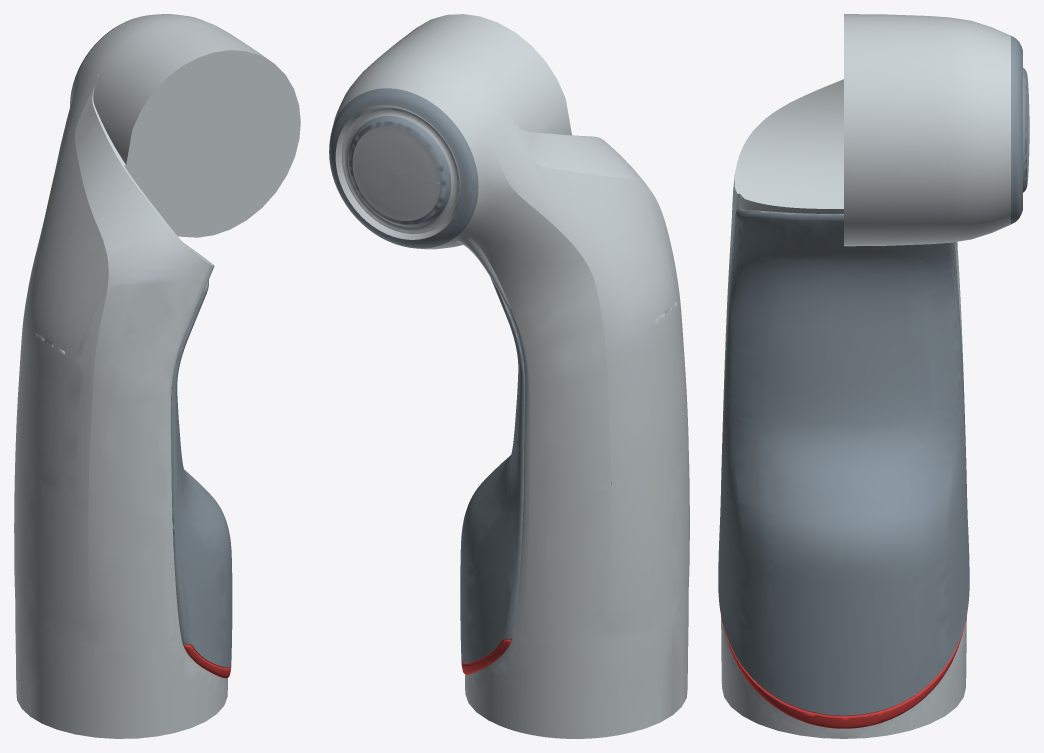
The picture shows the model from 3 angles, left to right: view 1: azimuth 30°, elevation 25°; view 2: azimuth 150°, elevation 25°; view 3: azimuth 270°, elevation 25°; orthographic projection. The views are drawn at different scales.
Visible parts, largest first — view 1: link_3.design_diana_v2.link_3; view 2: link_3.design_diana_v2.link_3; view 3: link_3.design_diana_v2.link_3.
Part boxes in pixels (x1,y1,x2,y2): link_3.design_diana_v2.link_3: (14,14,300,738); link_3.design_diana_v2.link_3: (329,14,689,738); link_3.design_diana_v2.link_3: (718,14,1029,738).
Bounding box in the file's own units: 0.1926 × 0.1661 × 0.4212.
